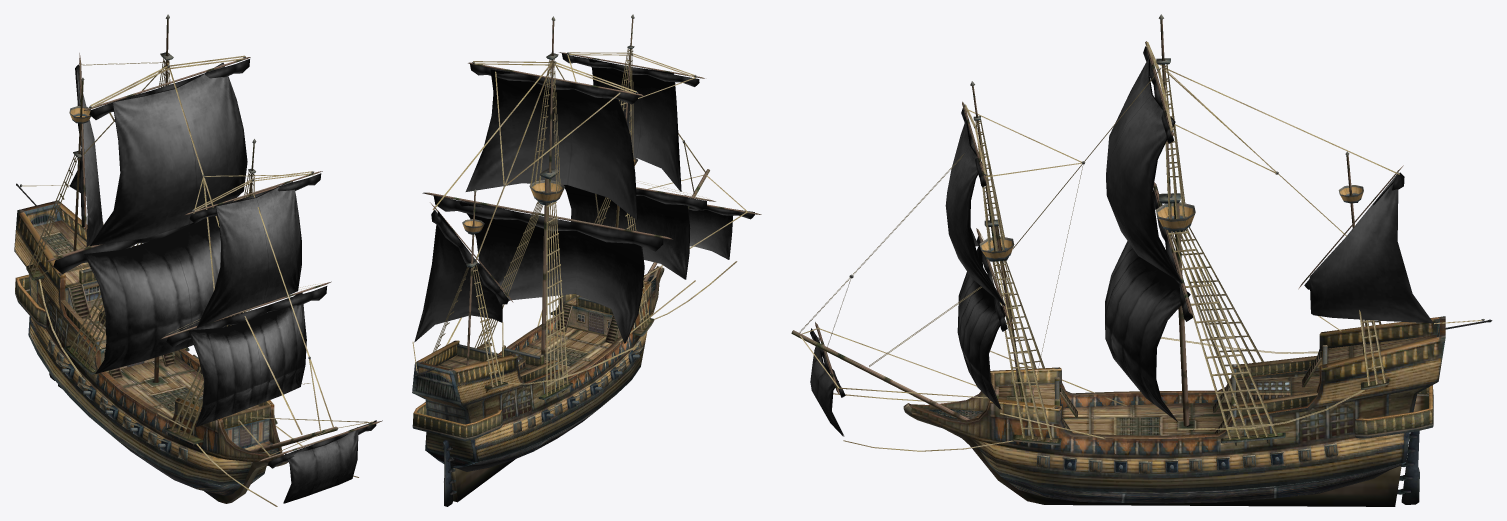
File: T_Ship_06.fbx
3 views of the same model, side by side, from view 1: azimuth 30°, elevation 25°; view 2: azimuth 150°, elevation 25°; view 3: azimuth 270°, elevation 25° (orthographic). The views are drawn at different scales.
Parts seen in each view (by area): view 1: T_Ship_p1, T_Ship_06, T_Ship_06_p2, T_Ship_p1_off, T_Ship_06_p3, T_Ship_06_p4; view 2: T_Ship_p1, T_Ship_06, T_Ship_p1_off, T_Ship_06_p2, T_Ship_06_p3, T_Ship_06_p4, T_Ship_06_p5; view 3: T_Ship_06, T_Ship_p1, T_Ship_06_p2, T_Ship_06_p4, T_Ship_06_p3, T_Ship_p1_off, T_Ship_06_p5.
Boxes of the visible parts, x1,y1,x2,y2 form: T_Ship_p1: [69, 63, 358, 503]; T_Ship_06: [14, 14, 382, 506]; T_Ship_06_p2: [28, 316, 266, 484]; T_Ship_p1_off: [53, 59, 376, 468]; T_Ship_06_p3: [116, 439, 263, 495]; T_Ship_06_p4: [58, 384, 287, 503]; T_Ship_p1: [414, 59, 733, 343]; T_Ship_06: [412, 14, 761, 441]; T_Ship_p1_off: [431, 53, 754, 304]; T_Ship_06_p2: [425, 331, 647, 462]; T_Ship_06_p3: [425, 399, 610, 471]; T_Ship_06_p4: [451, 266, 664, 502]; T_Ship_06_p5: [443, 440, 456, 506]; T_Ship_06: [791, 14, 1492, 458]; T_Ship_p1: [810, 58, 1433, 436]; T_Ship_06_p2: [972, 432, 1409, 492]; T_Ship_06_p4: [903, 403, 1401, 506]; T_Ship_06_p3: [1000, 462, 1405, 503]; T_Ship_p1_off: [810, 46, 1404, 397]; T_Ship_06_p5: [1397, 431, 1419, 504].
Size of the model in its own units: 5.6 by 9.38 by 12.13.
